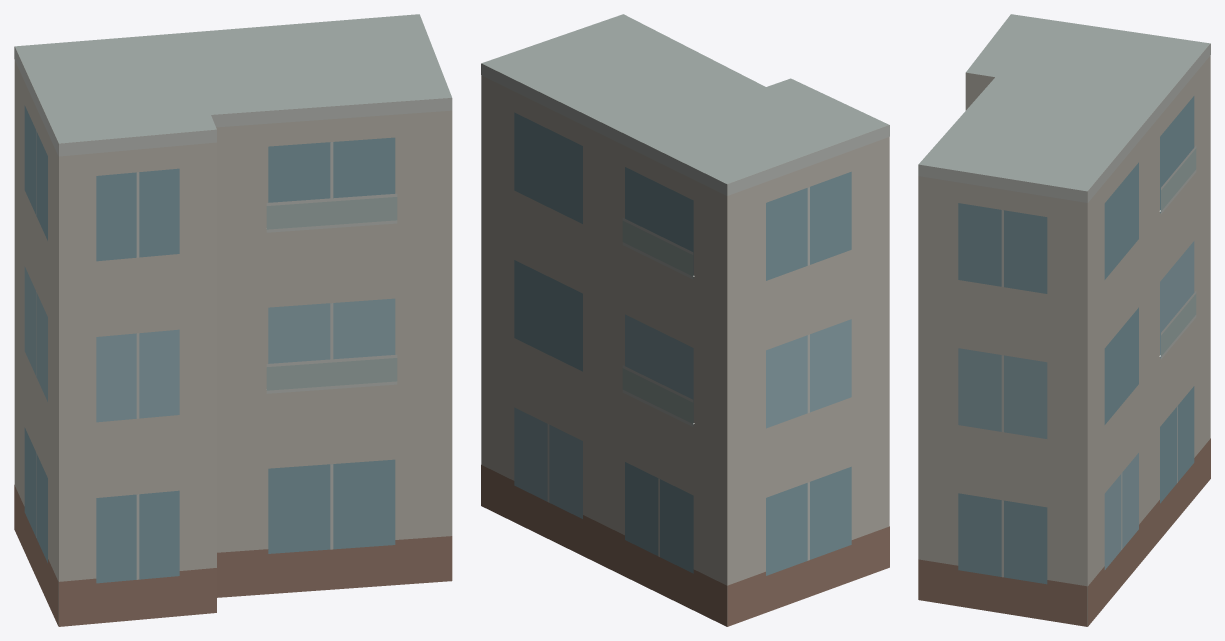
Rendered from survey-upis-32556903.glb.
3 views of the same model, side by side, from view 1: azimuth 30°, elevation 25°; view 2: azimuth 150°, elevation 25°; view 3: azimuth 270°, elevation 25° (orthographic). The views are drawn at different scales.
Visible parts, largest first — view 1: survey-upis-32556903.tmp; view 2: survey-upis-32556903.tmp; view 3: survey-upis-32556903.tmp.
Part boxes in pixels (bbox=[...]): survey-upis-32556903.tmp: bbox=[14, 14, 452, 626]; survey-upis-32556903.tmp: bbox=[481, 14, 889, 626]; survey-upis-32556903.tmp: bbox=[918, 14, 1210, 626].
Size of the model in its own units: 8.01 by 9.15 by 5.58.
